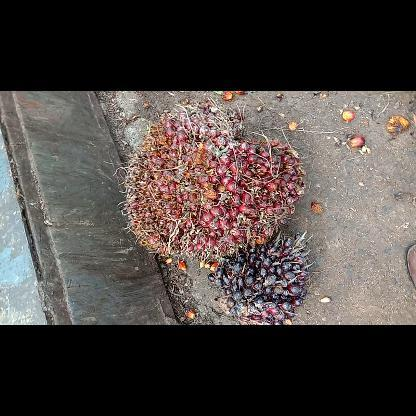TBS abnormal: (206, 234, 314, 324)
TBS masak: (118, 104, 304, 264)
